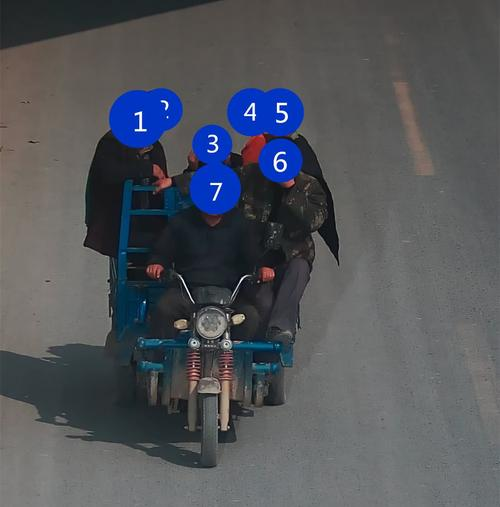driver: (158, 174, 283, 383)
overloading: (52, 75, 351, 454)
passenger: (247, 143, 311, 374), (85, 99, 166, 246), (218, 103, 314, 163), (179, 120, 230, 188)
